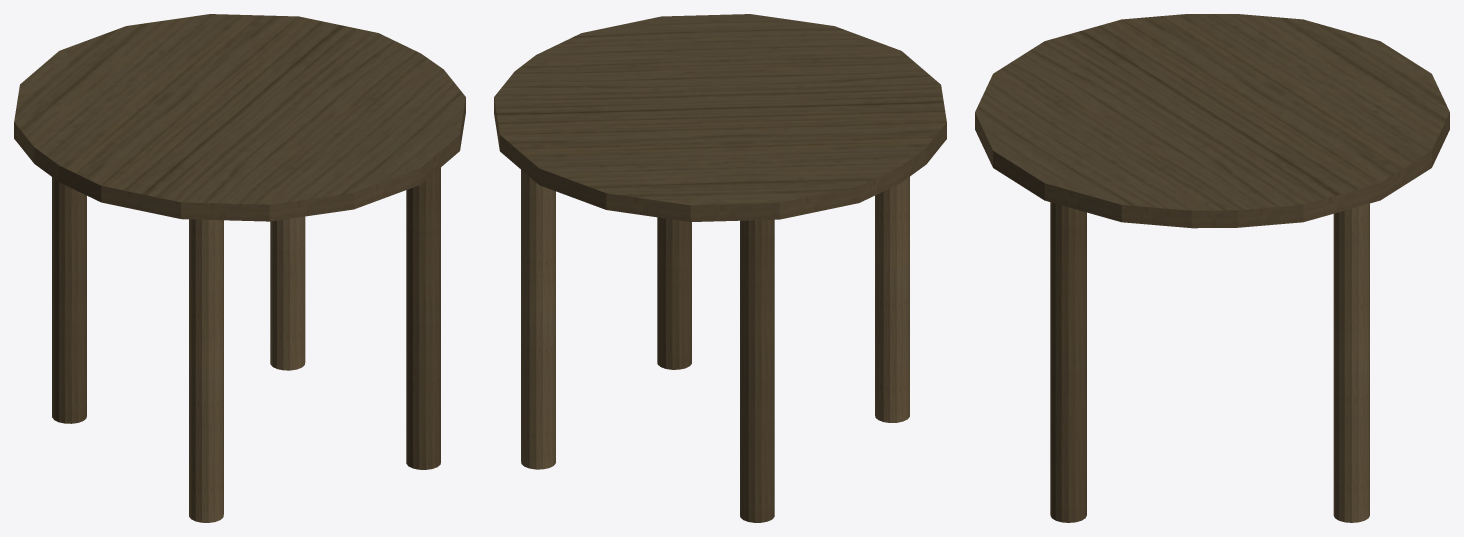
The model's file is runderTisch.fbx.
The picture shows the model from 3 angles, left to right: view 1: azimuth 30°, elevation 25°; view 2: azimuth 150°, elevation 25°; view 3: azimuth 270°, elevation 25°; orthographic projection. The views are drawn at different scales.
Parts seen in each view (by area): view 1: runder tisch; view 2: runder tisch; view 3: runder tisch.
Boxes of the visible parts, x1,y1,x2,y2 form: runder tisch: (14,14,465,522); runder tisch: (494,14,946,522); runder tisch: (975,14,1449,522).
Size of the model in its own units: 122 by 99.34 by 124.
